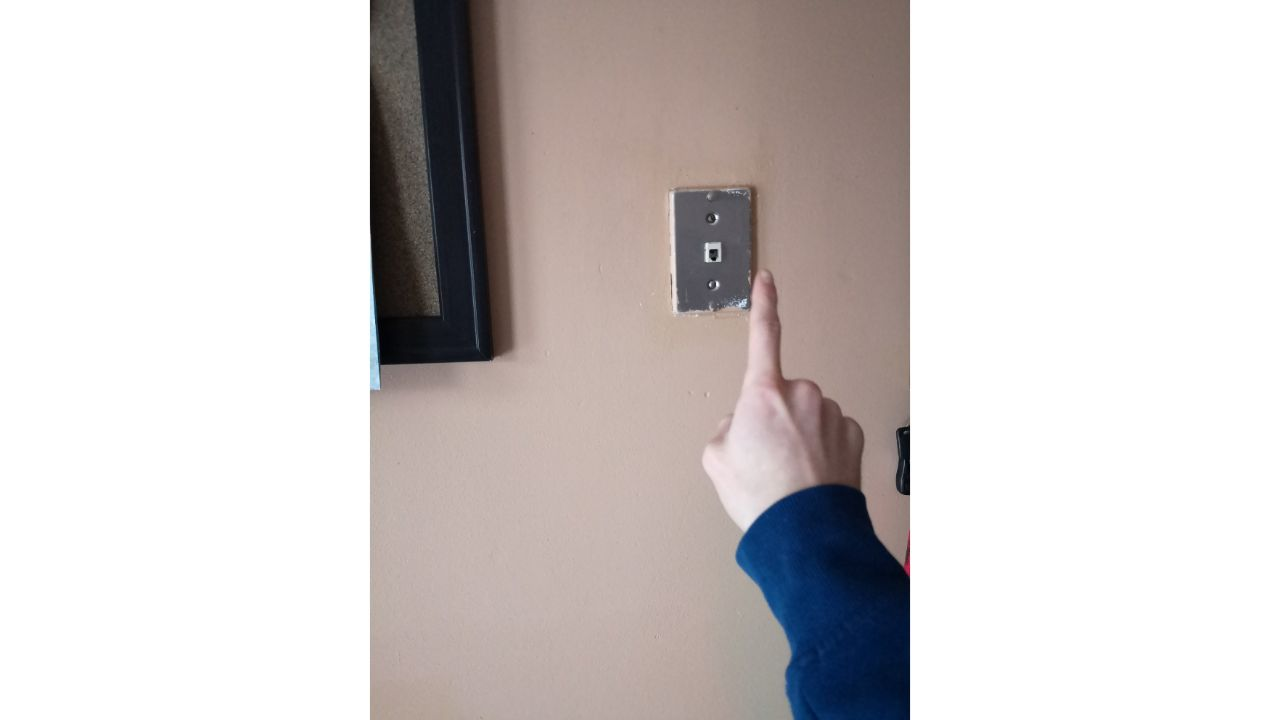finger: (703, 270, 876, 567)
